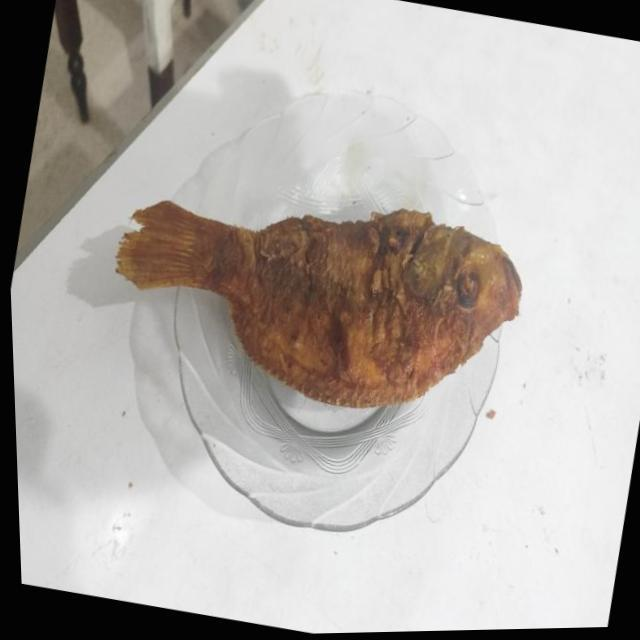ikan_mujair: (116, 202, 522, 408)
